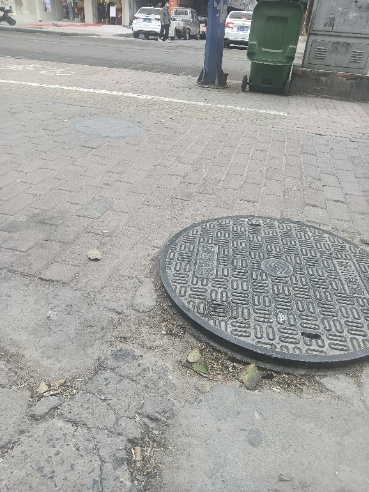good: (158, 214, 369, 376)
